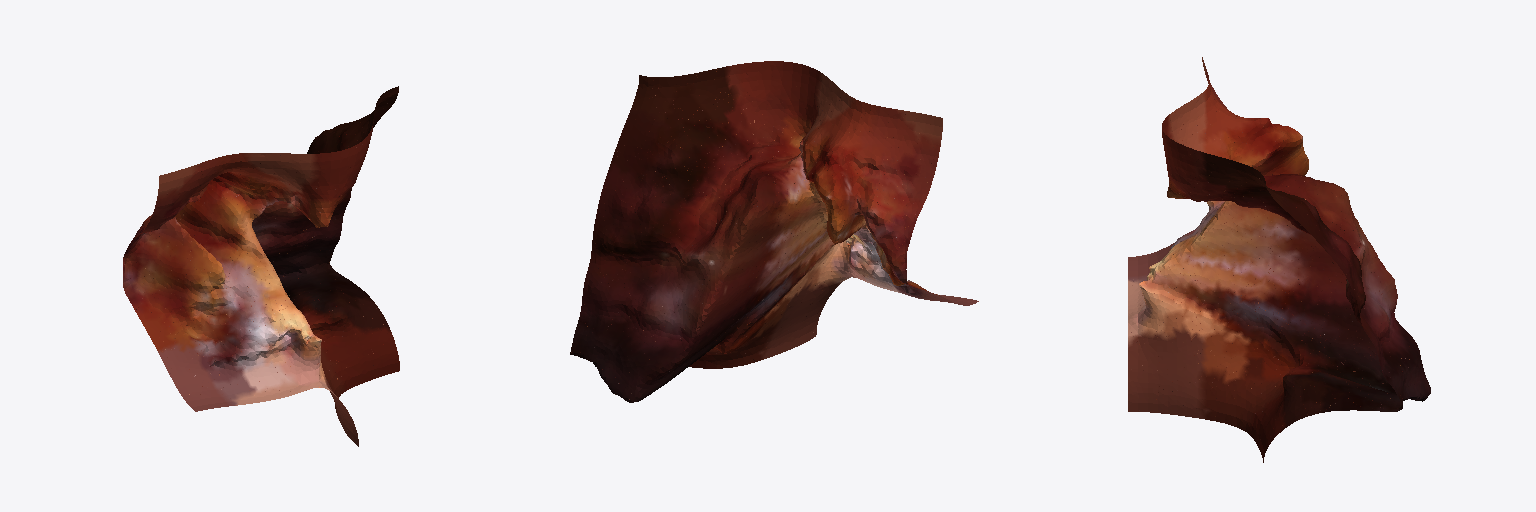
3 views of the same model, side by side, from view 1: azimuth 30°, elevation 25°; view 2: azimuth 150°, elevation 25°; view 3: azimuth 270°, elevation 25° (orthographic).
Bounding box in the file's own units: 1 × 1 × 0.9659.
1 materials, 1 textured.